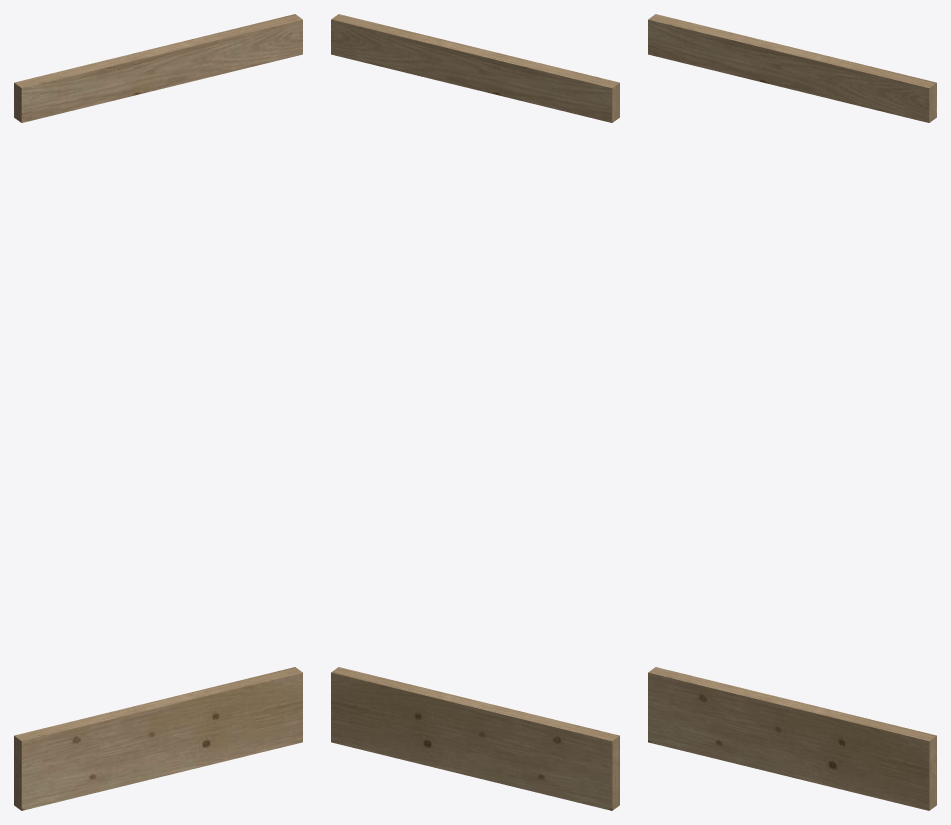
Rendered from Joglo_part_385.fbx.
3 views of the same model, side by side, from view 1: azimuth 30°, elevation 25°; view 2: azimuth 150°, elevation 25°; view 3: azimuth 330°, elevation 25° (orthographic).
Parts seen in each view (by area): view 1: Mesh56_Wood___Pine_Grained_Horizontal_0.001; view 2: Mesh56_Wood___Pine_Grained_Horizontal_0.001; view 3: Mesh56_Wood___Pine_Grained_Horizontal_0.001.
Part boxes in pixels (x1,y1,x2,y2): Mesh56_Wood___Pine_Grained_Horizontal_0.001: (14,14,302,810); Mesh56_Wood___Pine_Grained_Horizontal_0.001: (331,14,619,810); Mesh56_Wood___Pine_Grained_Horizontal_0.001: (648,14,936,810).
Bounding box in the file's own units: 33.23 × 81.57 × 1.57.
